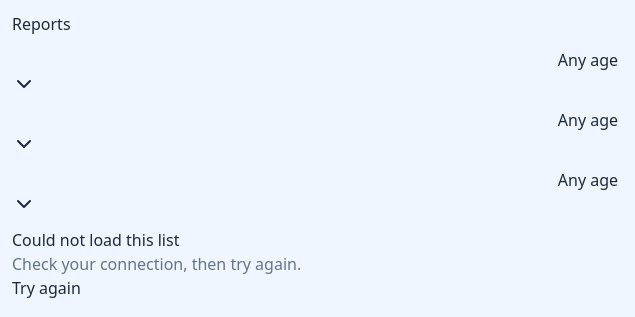
AdminReportsPanel › retries after a list error
Expected: the text "Could not load this list" is shown, [12,229,179,251]
Click the button "Try again". click: (46, 288)
box: [12,276,81,300]
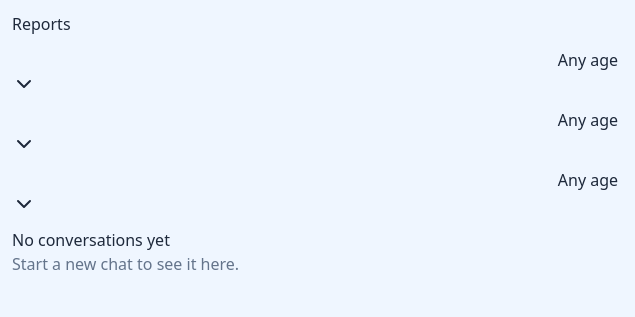
Result: the text "No conversations yet" is shown at [12,229,170,251]
